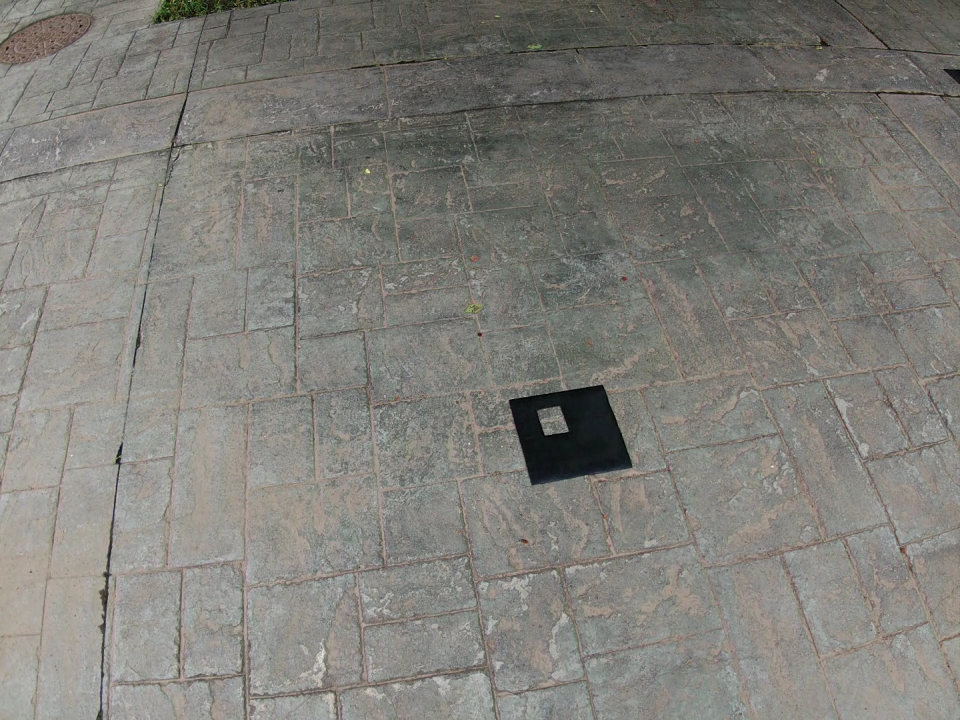qrcode: (508, 385, 630, 484)
